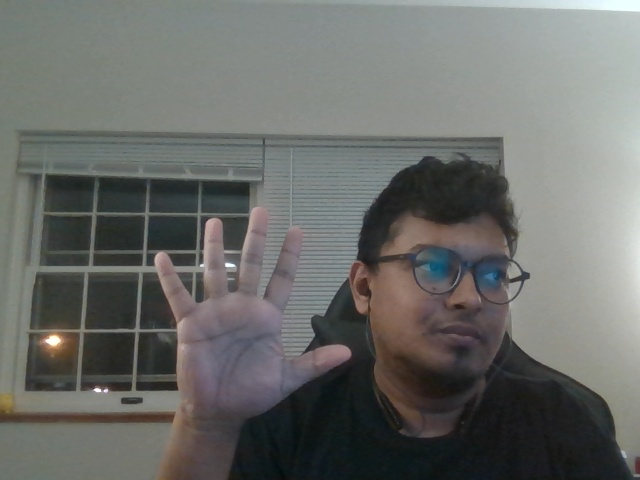hello: (137, 200, 356, 424)
